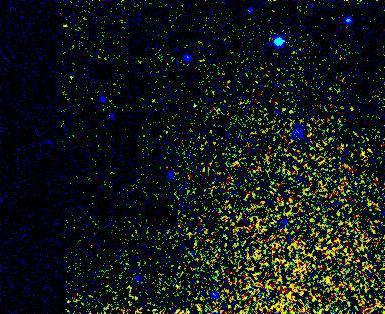star: (275, 95, 305, 125)
